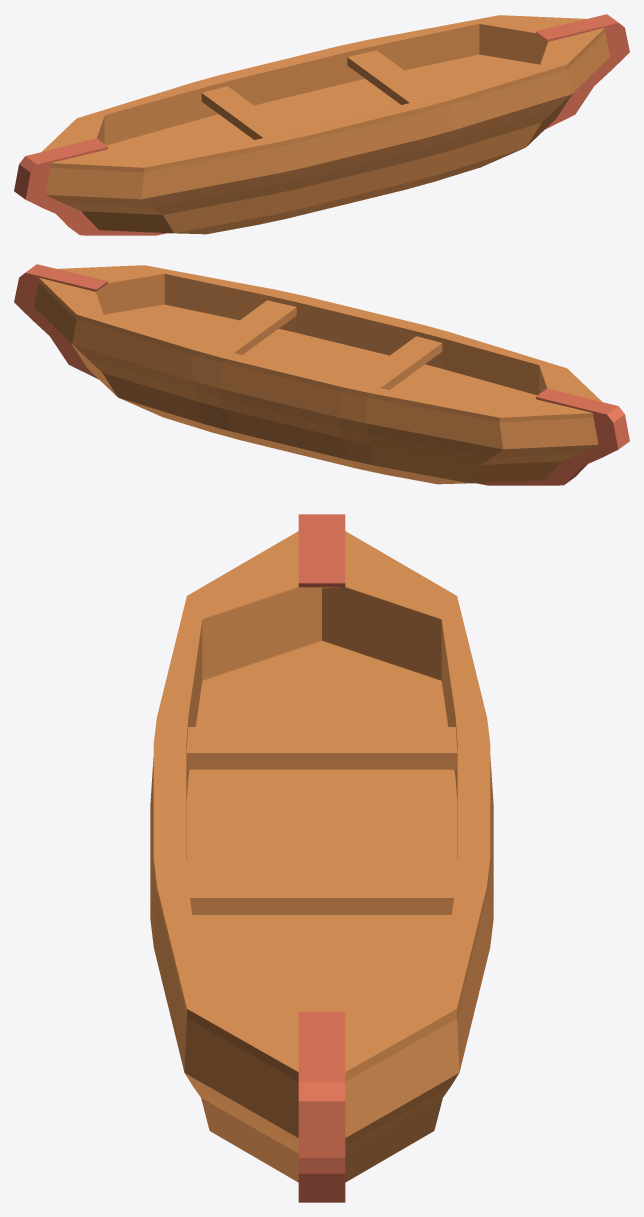
File: boat.fbx
The picture shows the model from 3 angles, top to bottom: view 1: azimuth 30°, elevation 25°; view 2: azimuth 150°, elevation 25°; view 3: azimuth 270°, elevation 25°; orthographic projection. The views are drawn at different scales.
Parts seen in each view (by area): view 1: ボート; view 2: ボート; view 3: ボート.
Part boxes in pixels (x1,y1,x2,y2): ボート: [14, 14, 629, 235]; ボート: [14, 264, 629, 485]; ボート: [150, 514, 493, 1202].
Size of the model in its own units: 657 by 109 by 161.
